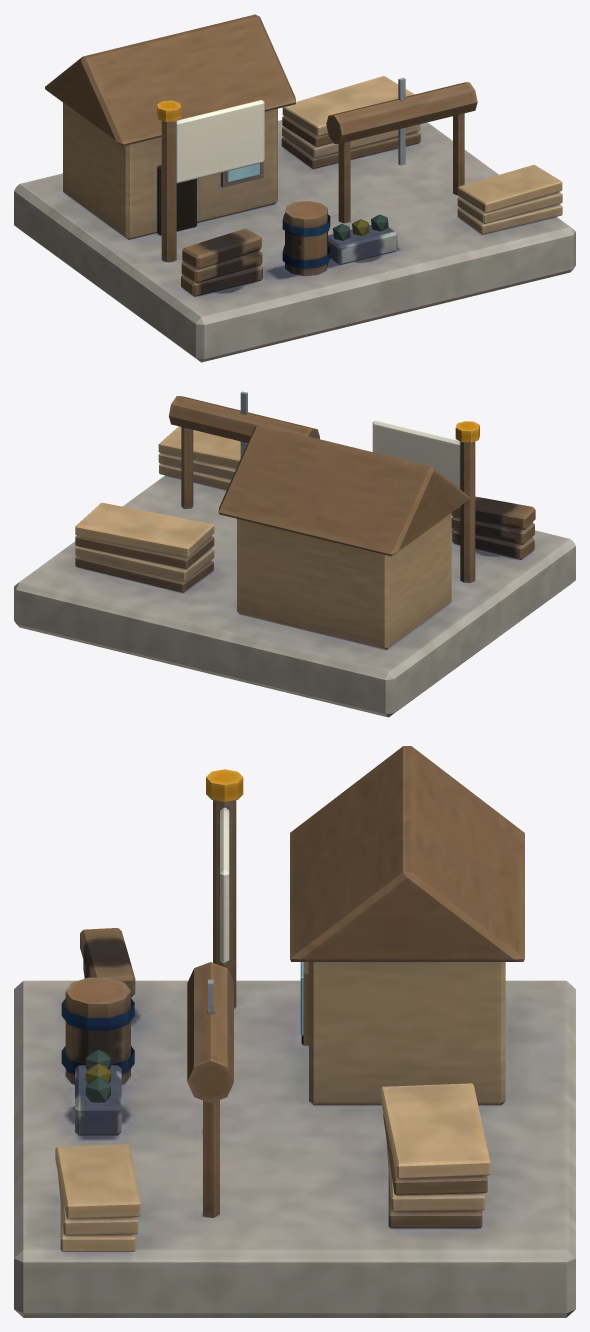
The model's file is lumberyard-5.glb.
3 views of the same model, one above another, from view 1: azimuth 30°, elevation 25°; view 2: azimuth 150°, elevation 25°; view 3: azimuth 270°, elevation 25° (orthographic). The views are drawn at different scales.
Parts seen in each view (by area): view 1: lumberyard-5; view 2: lumberyard-5; view 3: lumberyard-5.
Boxes of the visible parts, left/top/right/bottom form: lumberyard-5: left=14, top=14, right=575, bottom=362; lumberyard-5: left=14, top=391, right=575, bottom=717; lumberyard-5: left=14, top=746, right=575, bottom=1317.
Bounding box in the file's own units: 1.41 × 0.7322 × 1.2.
1 material, 1 textured.
